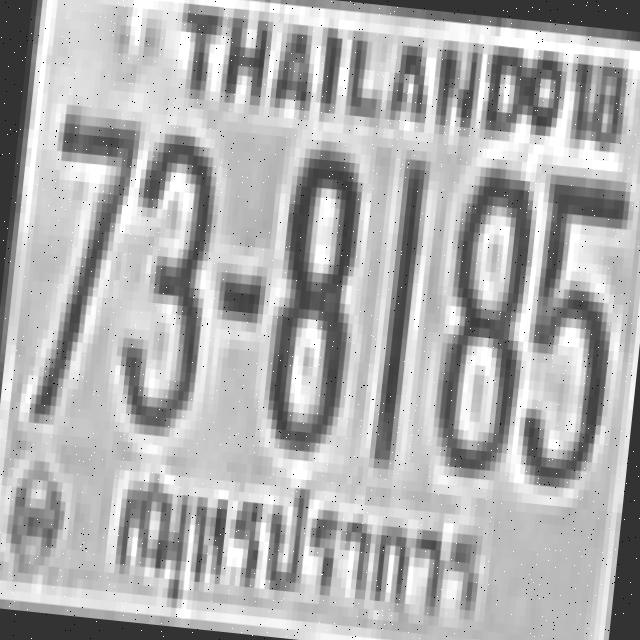1: (370, 154, 426, 456)
3: (109, 122, 216, 429)
5: (514, 164, 627, 481)
7: (29, 99, 137, 416)
8: (429, 155, 537, 472), (260, 138, 362, 444)
SamutPrakan: (90, 440, 503, 640)
